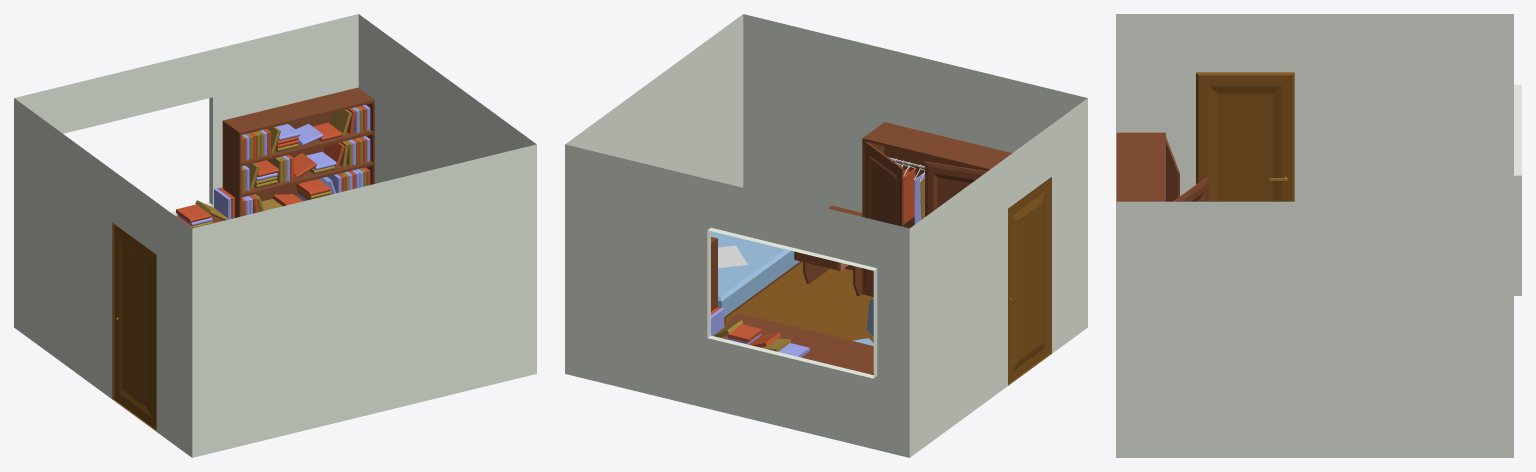
File: Teens_room.fbx
3 renders of one model, left to right at view 1: azimuth 30°, elevation 25°; view 2: azimuth 150°, elevation 25°; view 3: azimuth 270°, elevation 25°, orthographic. The views are drawn at different scales.
Visible parts, largest first — view 1: Walls, Bookshelf, Books 2, Books 1, Books 3, Books 5; view 2: Walls, Wardrobe, Bed, Desk, Books 5, Drawer, Clothes; view 3: Walls, Wardrobe.
Boxes of the visible parts, x1,y1,x2,y2 form: Walls: [14, 14, 536, 457]; Bookshelf: [222, 87, 374, 217]; Books 2: [241, 136, 370, 192]; Books 1: [241, 105, 370, 160]; Books 3: [241, 167, 370, 216]; Books 5: [175, 187, 234, 228]; Walls: [565, 14, 1087, 457]; Wardrobe: [862, 122, 1011, 296]; Bed: [711, 231, 801, 323]; Desk: [720, 313, 873, 374]; Books 5: [711, 307, 809, 357]; Drawer: [794, 205, 862, 296]; Clothes: [888, 157, 924, 224]; Walls: [1116, 14, 1521, 457]; Wardrobe: [1116, 132, 1208, 201].
Size of the model in its own units: 805 by 512 by 735.
